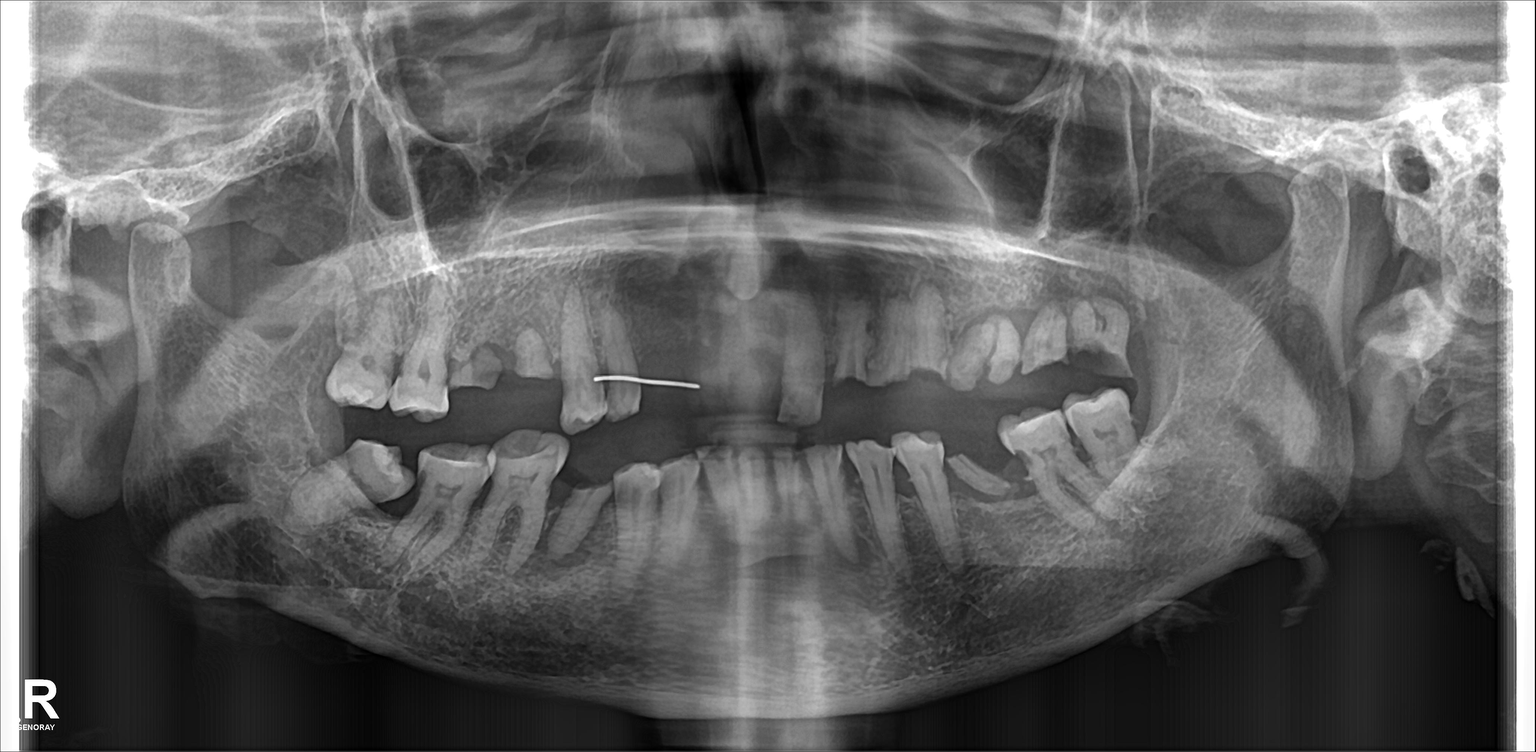Impacted Third Molar: (276, 434, 417, 518)
Missing Tooth: (633, 292, 699, 404), (1132, 365, 1183, 459)
Retained Root: (952, 432, 1010, 553), (963, 302, 1021, 410), (561, 449, 611, 559), (1017, 287, 1071, 378), (1080, 279, 1128, 372), (827, 303, 870, 405), (507, 309, 553, 398), (460, 309, 499, 410)
